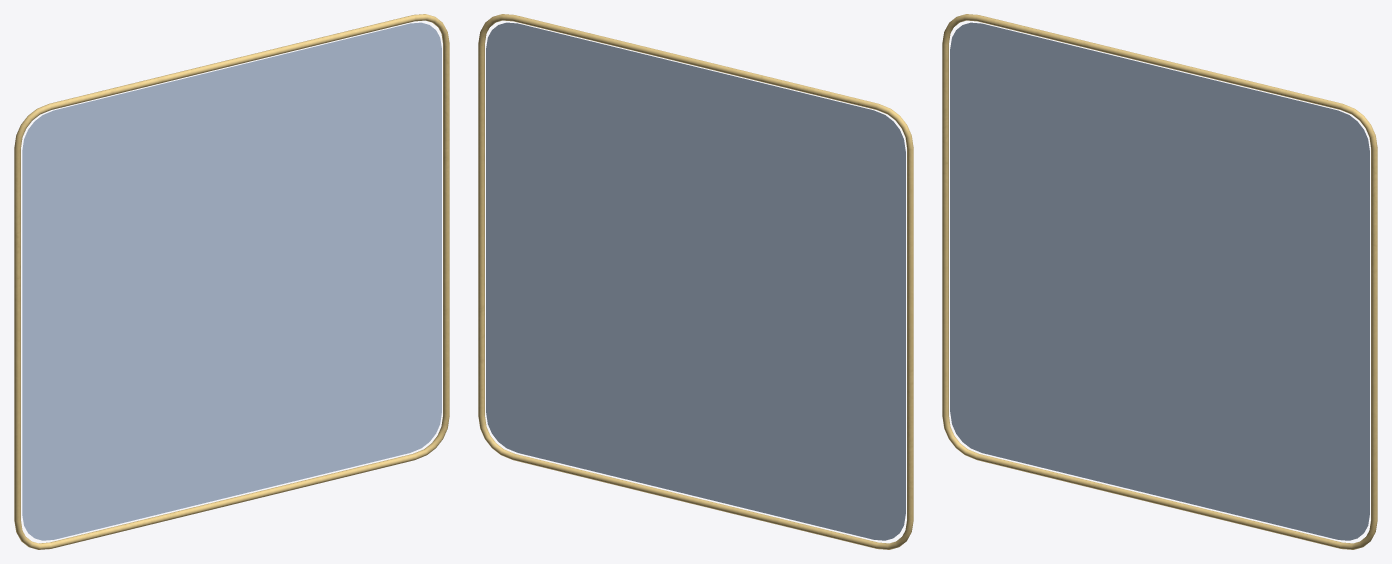
File: Screen.fbx
3 renders of one model, left to right at view 1: azimuth 30°, elevation 25°; view 2: azimuth 150°, elevation 25°; view 3: azimuth 330°, elevation 25°, orthographic.
Parts seen in each view (by area): view 1: LobbyWall.026; view 2: LobbyWall.026; view 3: LobbyWall.026.
Boxes of the visible parts, x1,y1,x2,y2 form: LobbyWall.026: [14, 14, 449, 549]; LobbyWall.026: [478, 14, 913, 549]; LobbyWall.026: [942, 14, 1377, 549].
Size of the model in its own units: 377 by 368 by 5.
